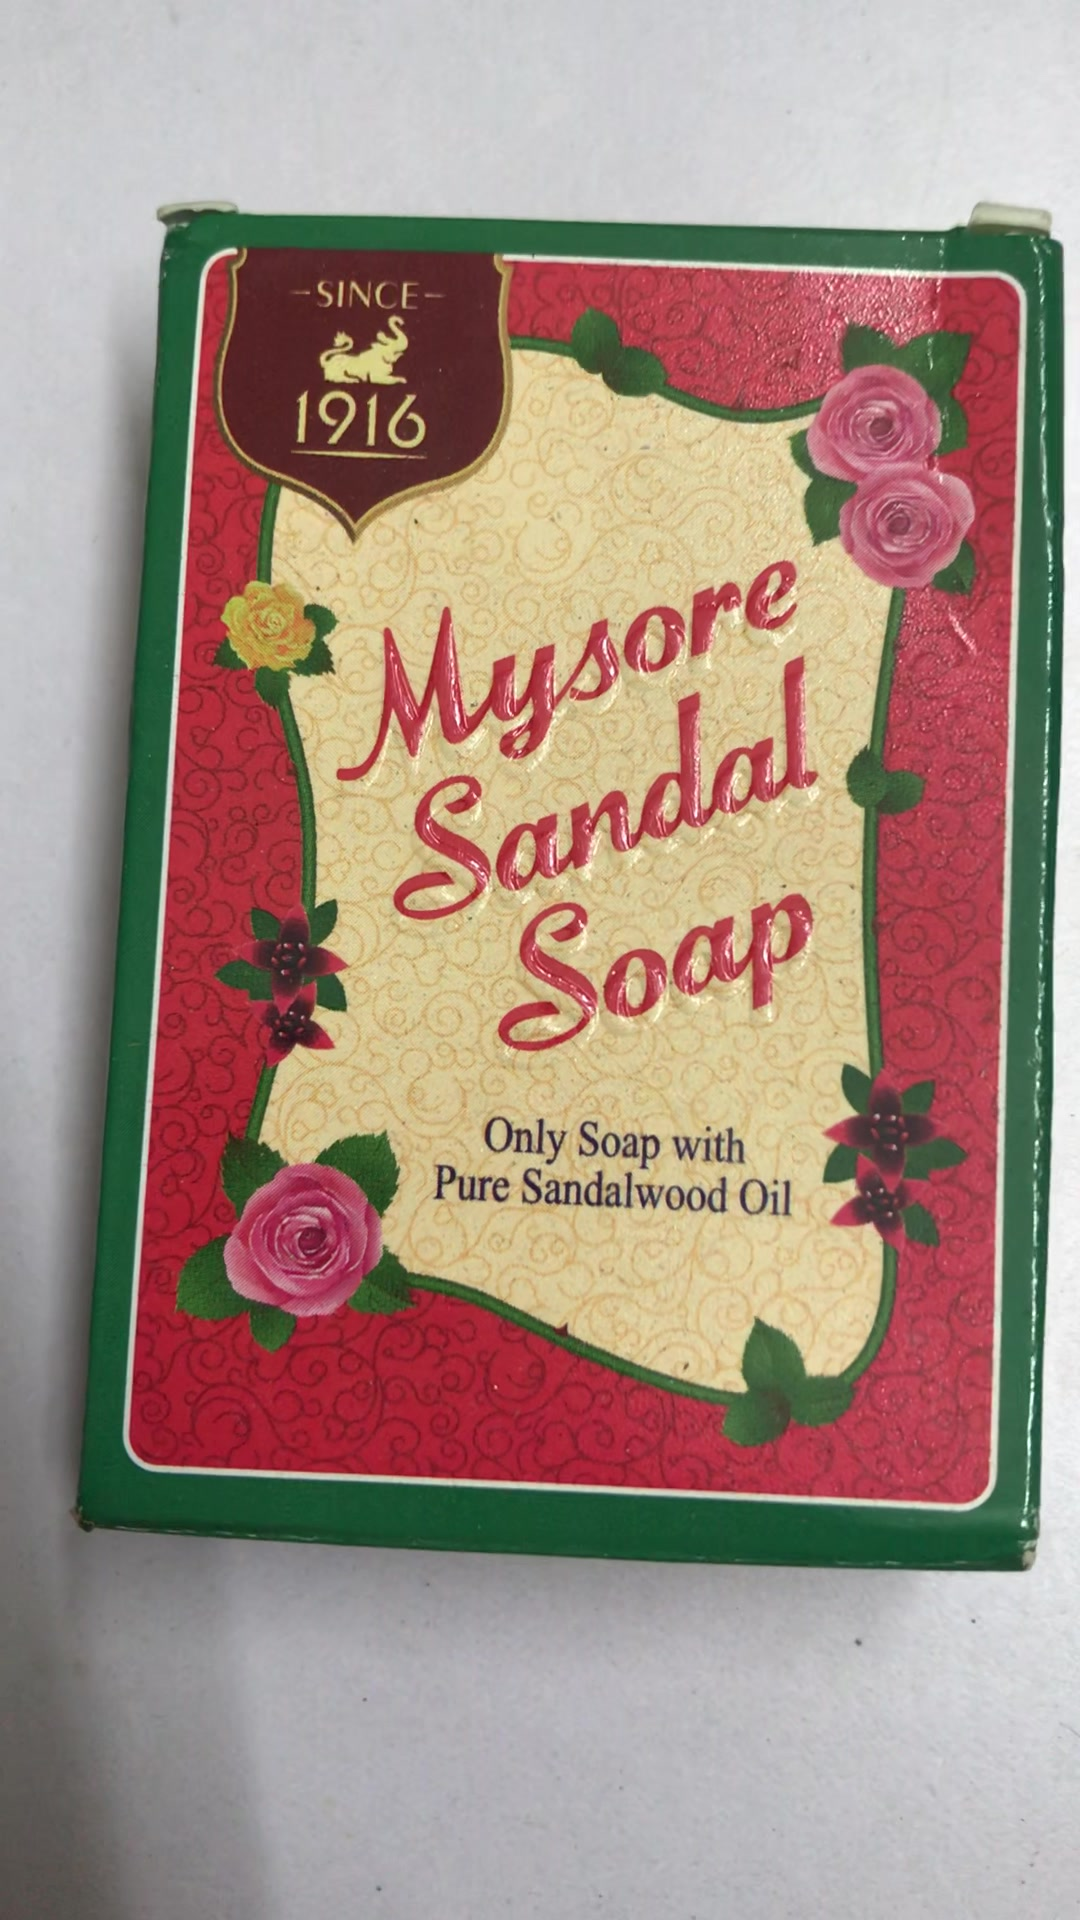mysore sandal soap: (78, 215, 1054, 1581)
